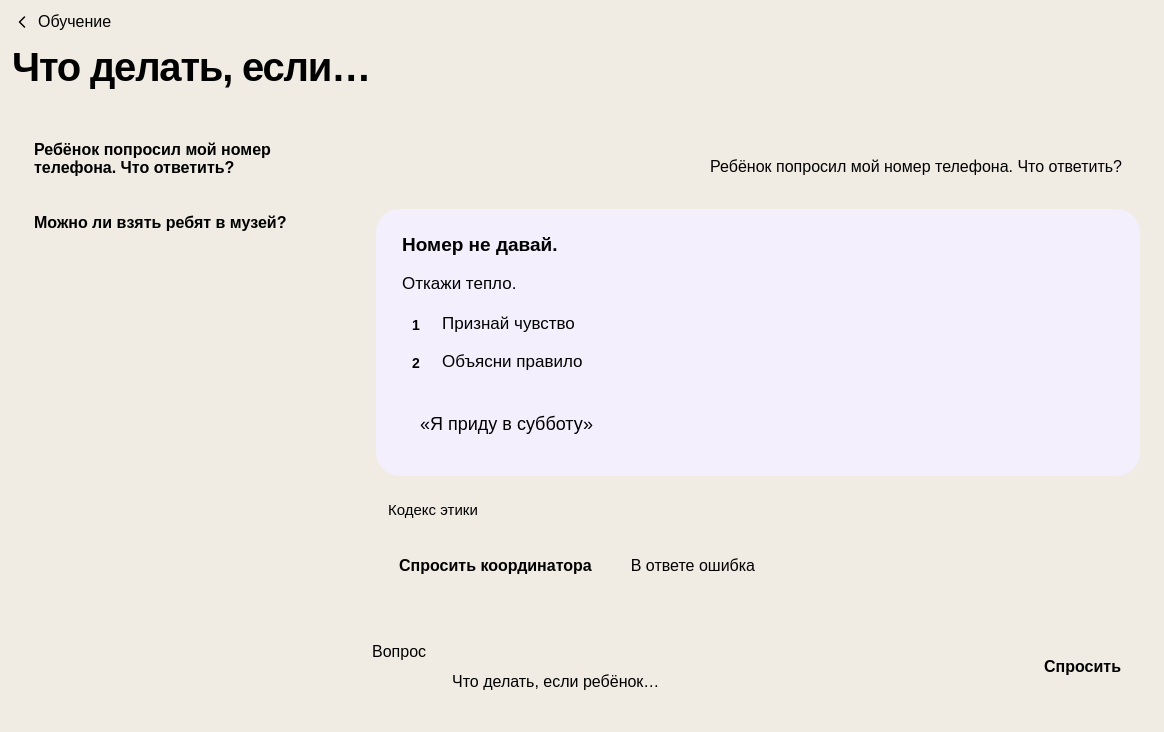
Test: Knowledge and Mentor › opens the latest question as a chat with sources, escalation and a quiet error report
Check: the list items read "1Признай чувство", "2Объясни правило", in this order, box [412,314,575,333]; [412,352,583,371]
Check: the number of buttons "Кодекс этики" is 1, box [376,492,490,526]
Click the button "В ответе ошибка": [693, 566] box [631,557,755,575]
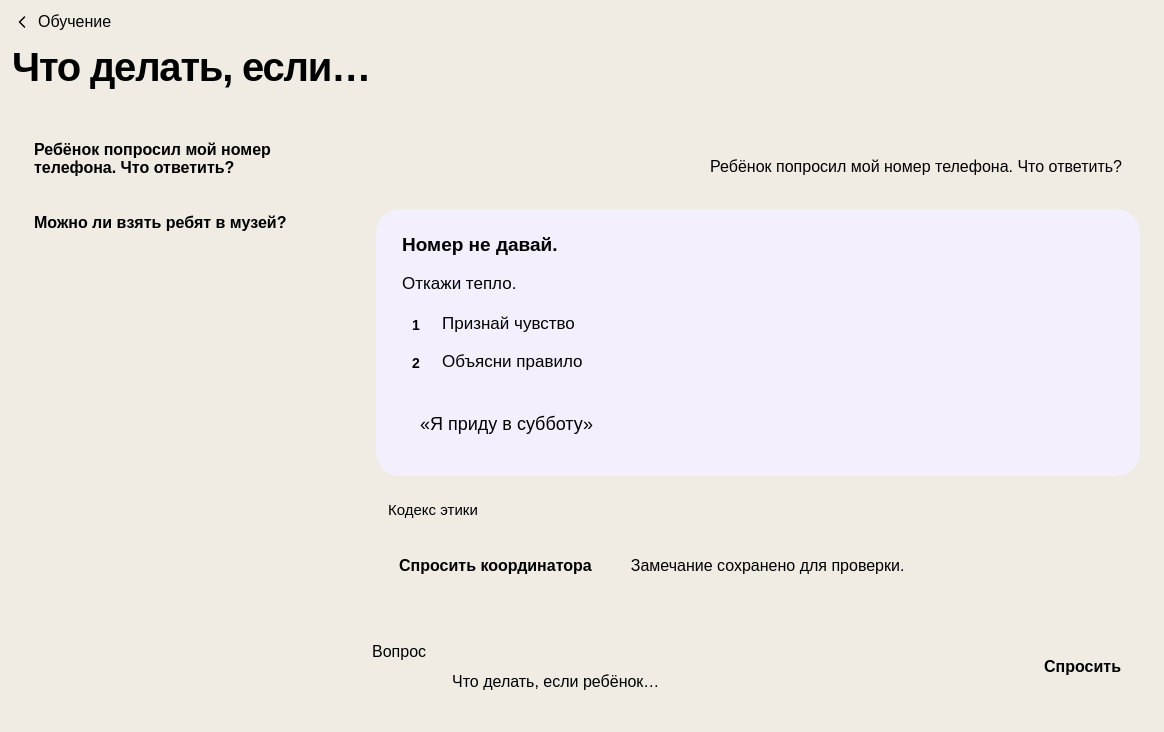
Check: the text "Замечание сохранено для проверки." is shown, box [631,557,904,575]
Click the button "Можно ли взять ребят в музей?": [172, 223] box [22,191,322,255]
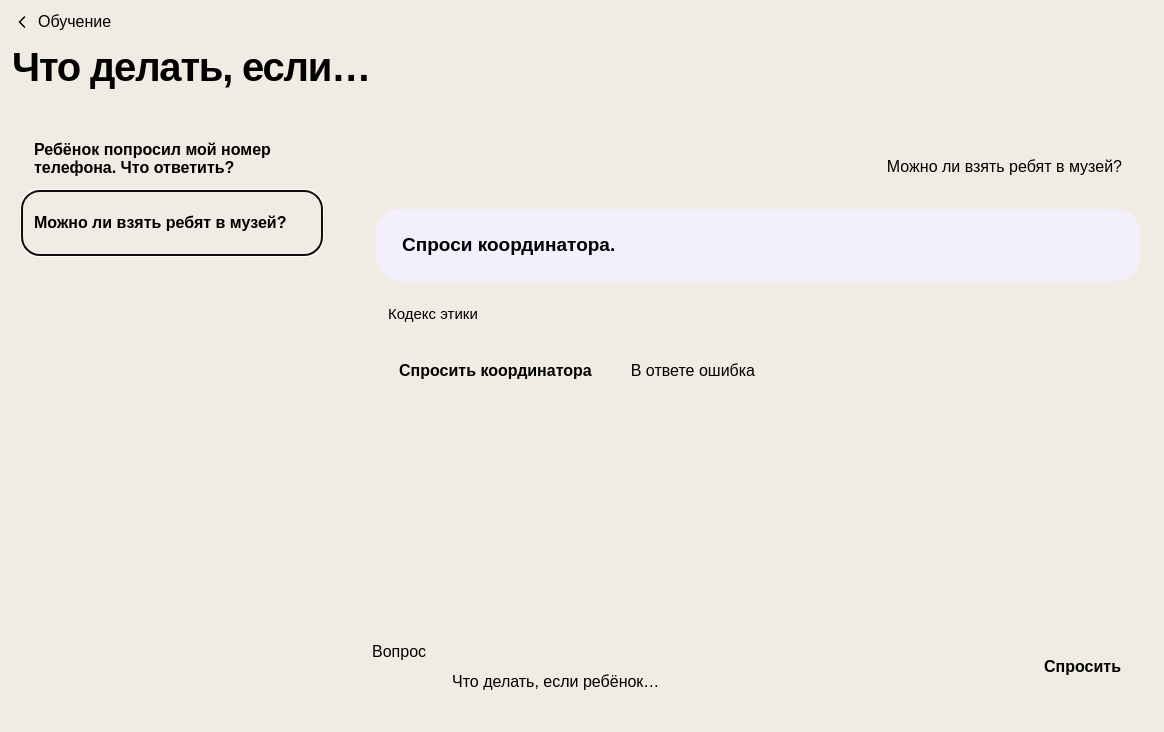
Check: the text "Спроси координатора." is shown, box [402,234,615,255]
